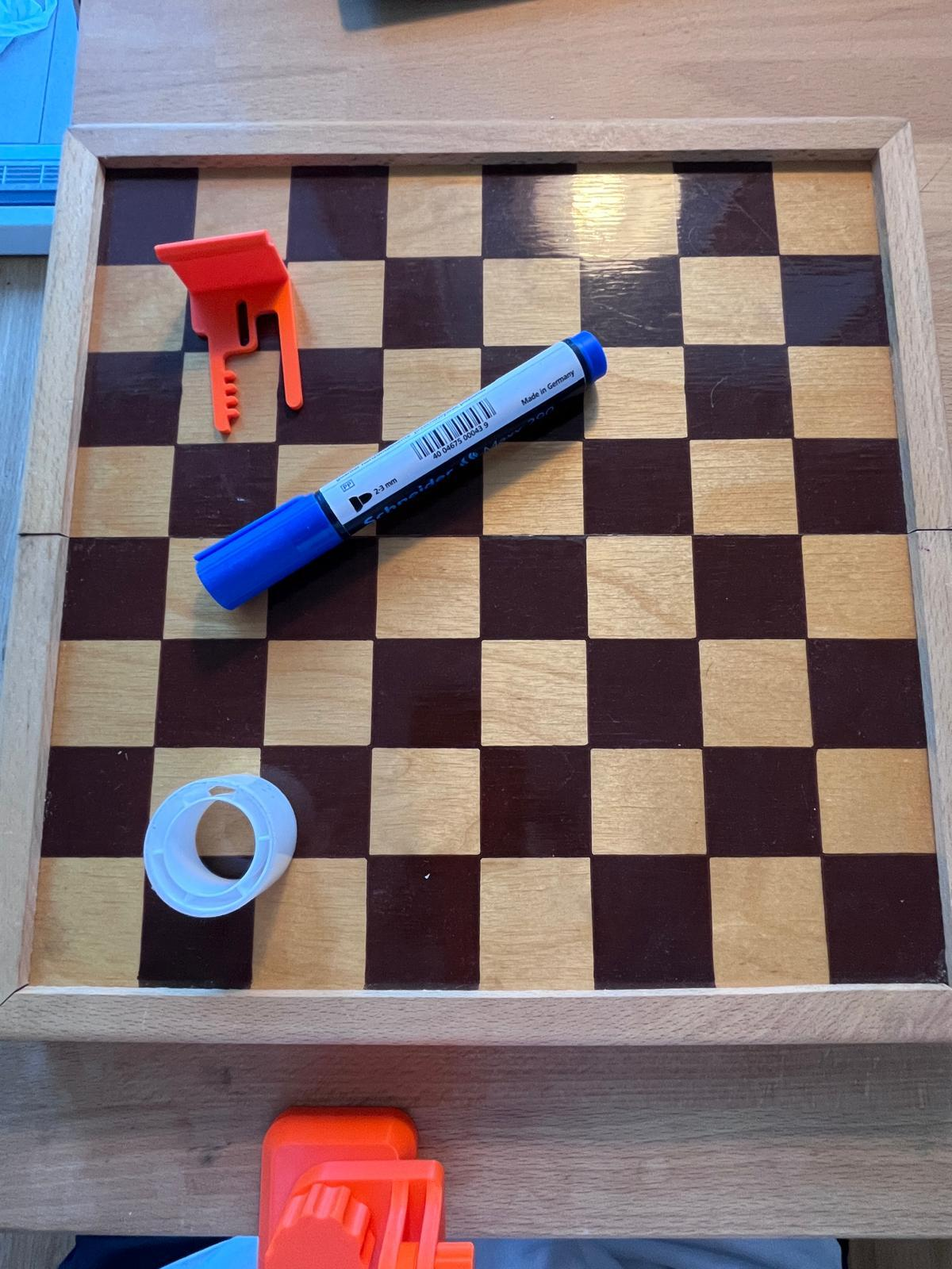clipper: (135, 227, 309, 428)
marker: (186, 332, 611, 604)
tape: (133, 774, 287, 920)
